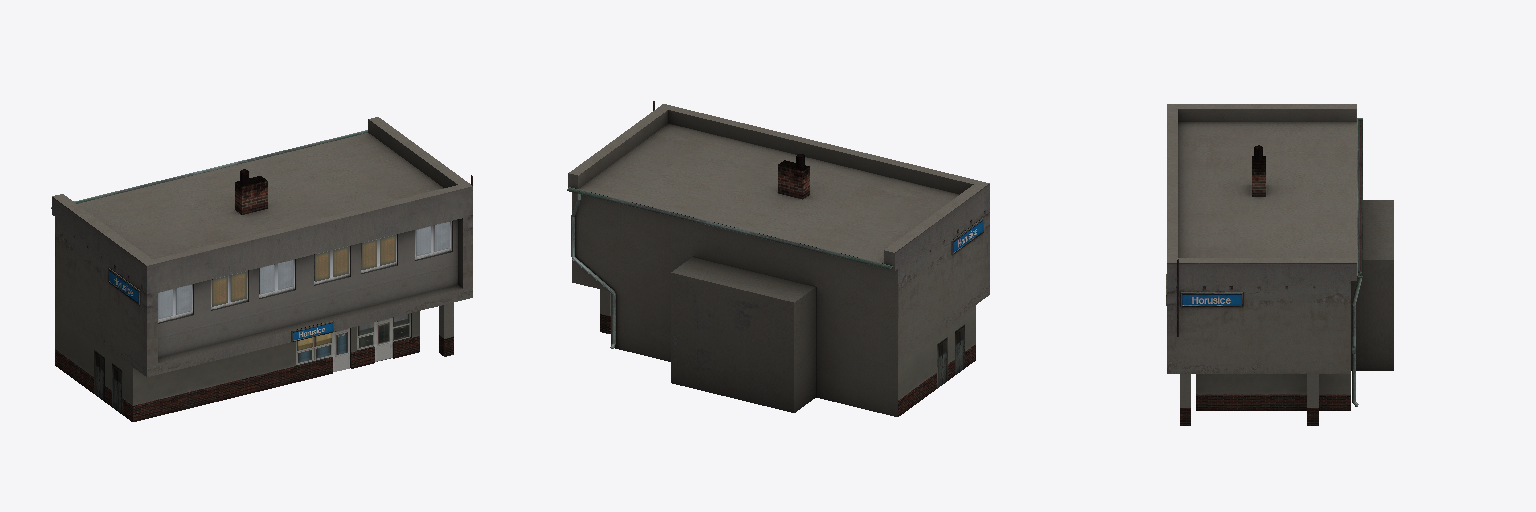
3 views of the same model, side by side, from view 1: azimuth 30°, elevation 25°; view 2: azimuth 150°, elevation 25°; view 3: azimuth 270°, elevation 25° (orthographic).
Visible parts, largest first — view 1: 1_1000_nadrazi_Plane, 1_0500_okna_night_Plane.007, 1_0250_komin_Plane.001, 1_0750_cedule_Cube.004, 1_0250_okap_Circle, 1_0250_pilire_Cube.003; view 2: 1_1000_nadrazi_Plane, 1_1000_pristavek_Cube.002, 1_0250_okap_Circle, 1_0250_komin_Plane.001; view 3: 1_1000_nadrazi_Plane, 1_1000_pristavek_Cube.002, 1_0250_okap_Circle, 1_0250_pilire_Cube.003, 1_0750_cedule_Cube.004, 1_0250_komin_Plane.001.
Boxes of the visible parts, <box> form: 1_1000_nadrazi_Plane: <box>52,117,472,421</box>; 1_0500_okna_night_Plane.007: <box>212,235,395,350</box>; 1_0250_komin_Plane.001: <box>235,169,472,214</box>; 1_0750_cedule_Cube.004: <box>108,268,333,341</box>; 1_0250_okap_Circle: <box>51,130,367,208</box>; 1_0250_pilire_Cube.003: <box>439,303,453,356</box>; 1_1000_nadrazi_Plane: <box>568,104,989,416</box>; 1_1000_pristavek_Cube.002: <box>671,257,815,412</box>; 1_0250_okap_Circle: <box>567,187,892,348</box>; 1_0250_komin_Plane.001: <box>653,101,809,198</box>; 1_1000_nadrazi_Plane: <box>1167,104,1356,410</box>; 1_1000_pristavek_Cube.002: <box>1351,200,1393,370</box>; 1_0250_okap_Circle: <box>1352,118,1362,406</box>; 1_0250_pilire_Cube.003: <box>1180,374,1318,425</box>; 1_0750_cedule_Cube.004: <box>1166,274,1242,306</box>; 1_0250_komin_Plane.001: <box>1177,145,1265,336</box>.
Size of the model in its own units: 18.32 by 10.32 by 10.87.
3 materials, 3 textured.